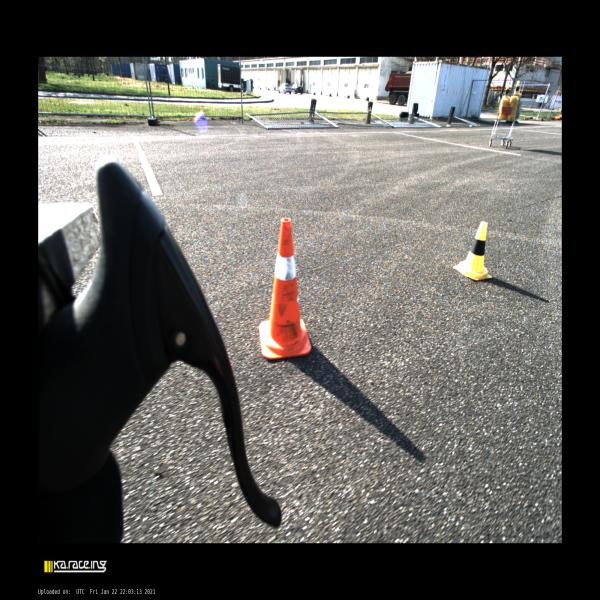large_orange_cone: (259, 218, 311, 358)
yellow_cone: (454, 222, 492, 280), (511, 81, 520, 98), (501, 84, 510, 100)
